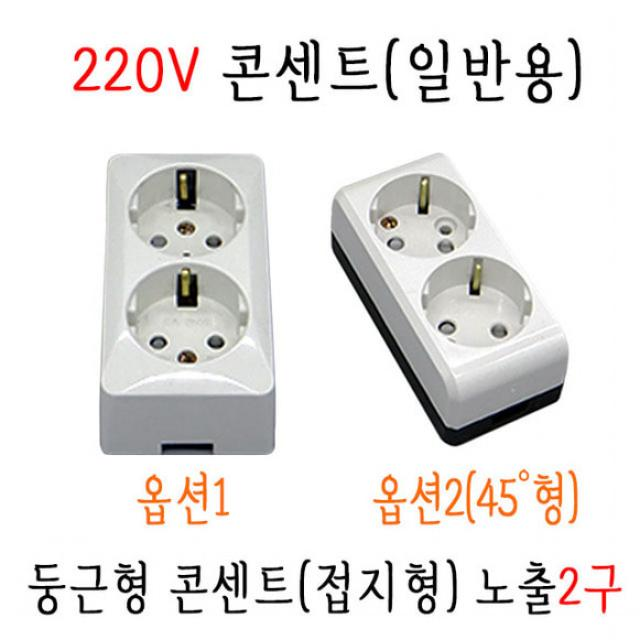typeb: (314, 138, 583, 442), (85, 134, 286, 460)
